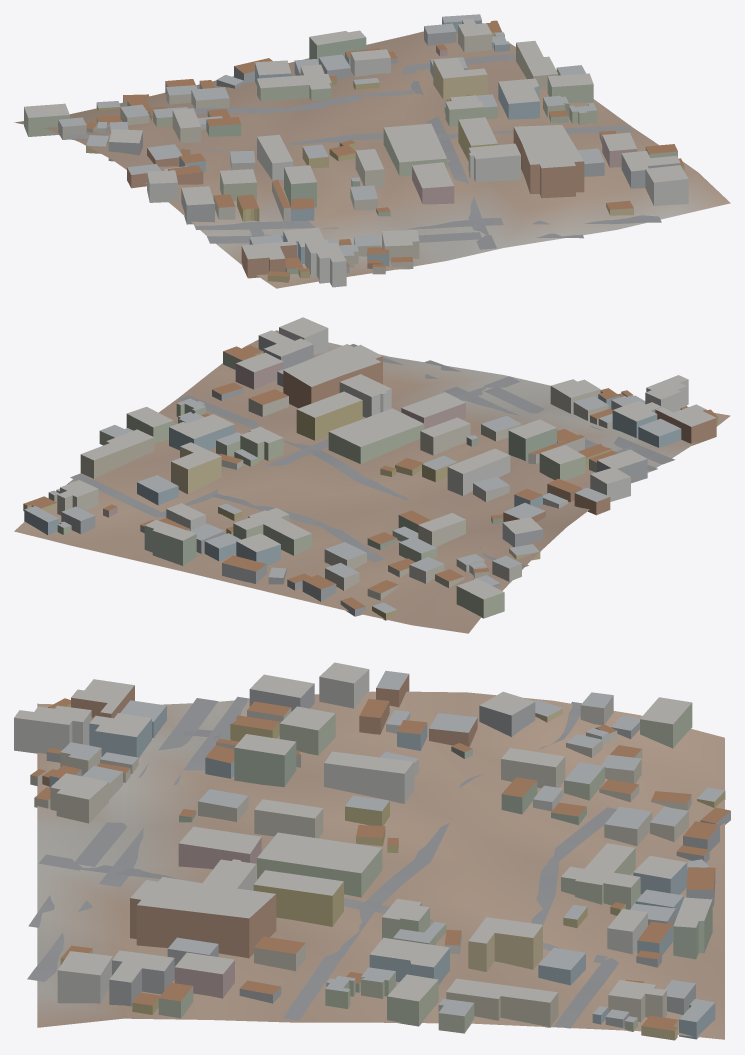
The picture shows the model from 3 angles, top to bottom: view 1: azimuth 30°, elevation 25°; view 2: azimuth 150°, elevation 25°; view 3: azimuth 270°, elevation 25°; orthographic projection. The views are drawn at different scales.
Visible parts, largest first — view 1: Lo; view 2: Lo; view 3: Lo.
Boxes of the visible parts, x1,y1,x2,y2 form: Lo: (14, 14, 730, 288); Lo: (14, 317, 730, 633); Lo: (14, 662, 730, 1040).
Bounding box in the file's own units: 271 × 32.27 × 267.
